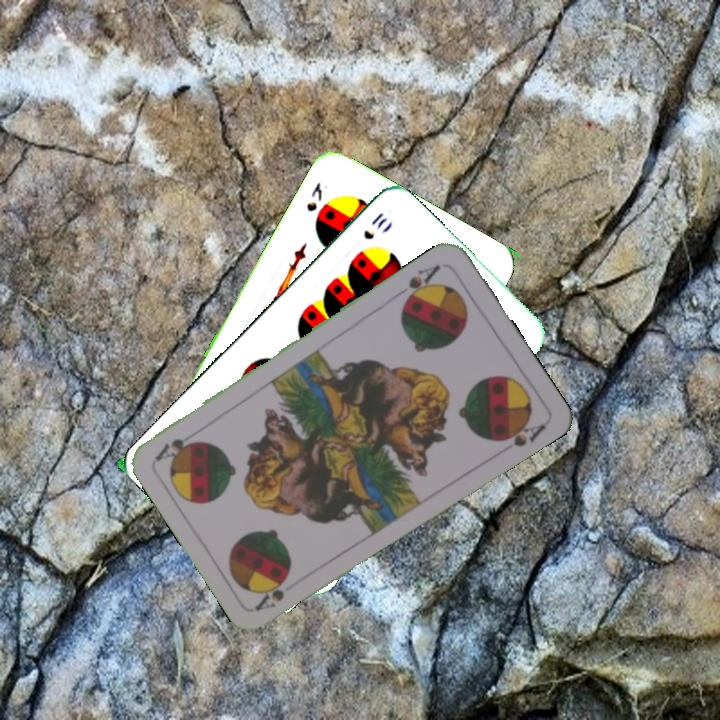S10: (359, 208, 390, 242)
SA: (393, 260, 444, 307), (251, 574, 291, 614)
SK: (302, 178, 325, 215)
